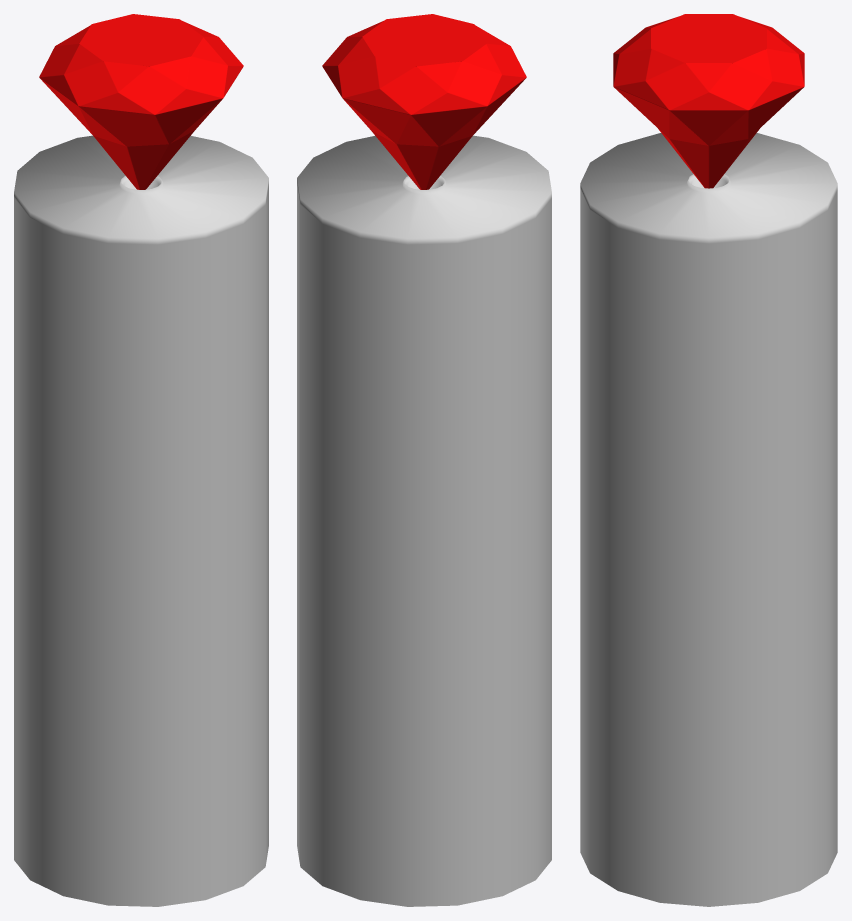
The model's file is StealDiamondEnv.FBX.
3 views of the same model, side by side, from view 1: azimuth 30°, elevation 25°; view 2: azimuth 150°, elevation 25°; view 3: azimuth 270°, elevation 25° (orthographic).
Parts seen in each view (by area): view 1: Circle, Gem; view 2: Circle, Gem; view 3: Circle, Gem.
Part boxes in pixels (x1,y1,x2,y2): Circle: [14, 135, 268, 906]; Gem: [39, 14, 243, 189]; Circle: [297, 135, 551, 906]; Gem: [322, 14, 526, 189]; Circle: [580, 133, 837, 906]; Gem: [613, 14, 804, 188].
Size of the model in its own units: 2.27 by 7.92 by 2.27.
